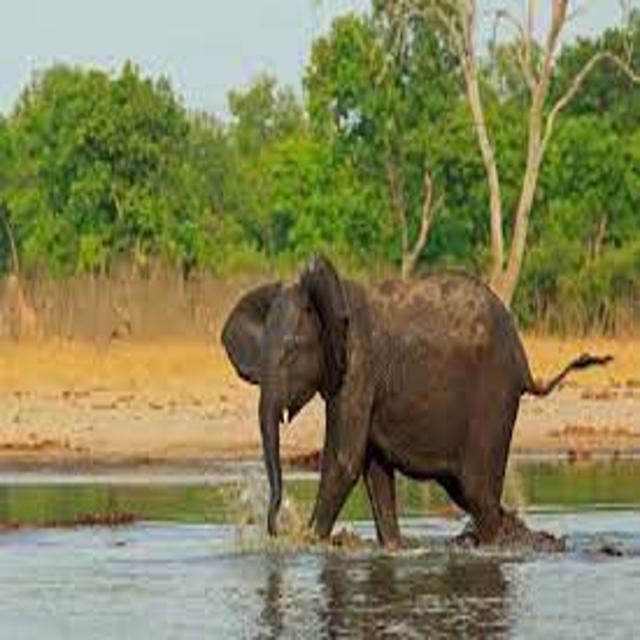elephant: (183, 220, 640, 572)
